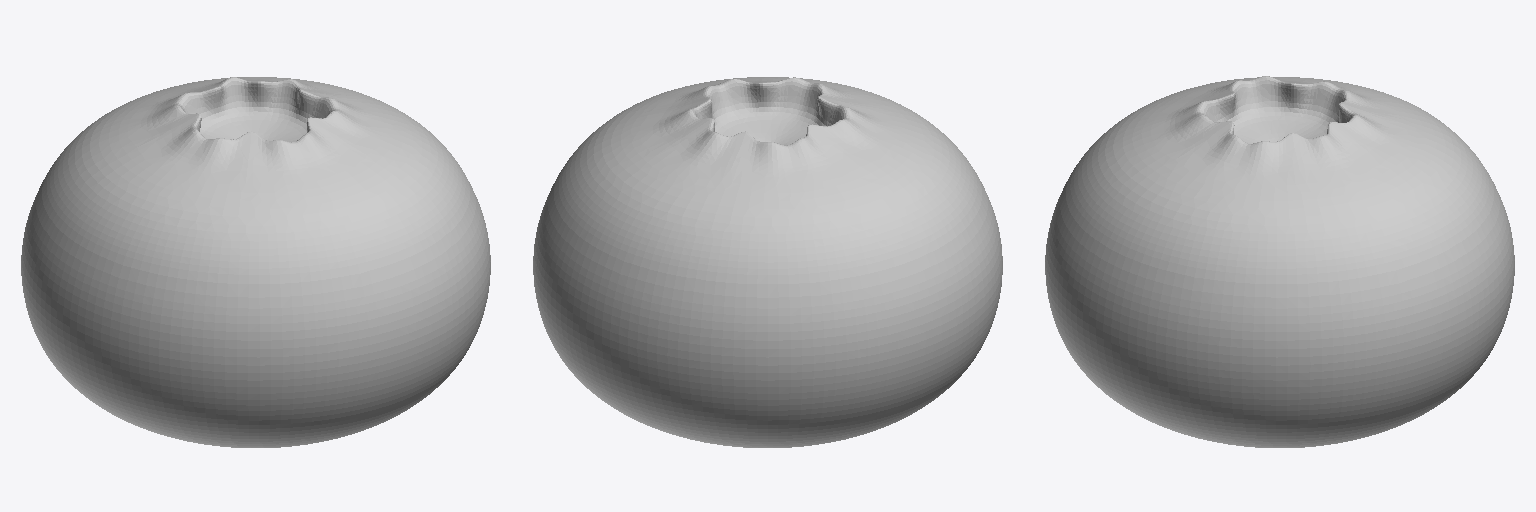
Rendered from Blueberry.obj.
3 renders of one model, left to right at view 1: azimuth 30°, elevation 25°; view 2: azimuth 150°, elevation 25°; view 3: azimuth 270°, elevation 25°, orthographic.
Visible parts, largest first — view 1: Blueberry; view 2: Blueberry; view 3: Blueberry.
Part boxes in pixels (bbox=[...]): Blueberry: bbox=[21, 77, 490, 447]; Blueberry: bbox=[533, 77, 1002, 447]; Blueberry: bbox=[1045, 76, 1514, 447].
Bounding box in the file's own units: 0.0196 × 0.0137 × 0.0196.